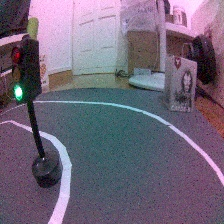green: (9, 33, 66, 191)
